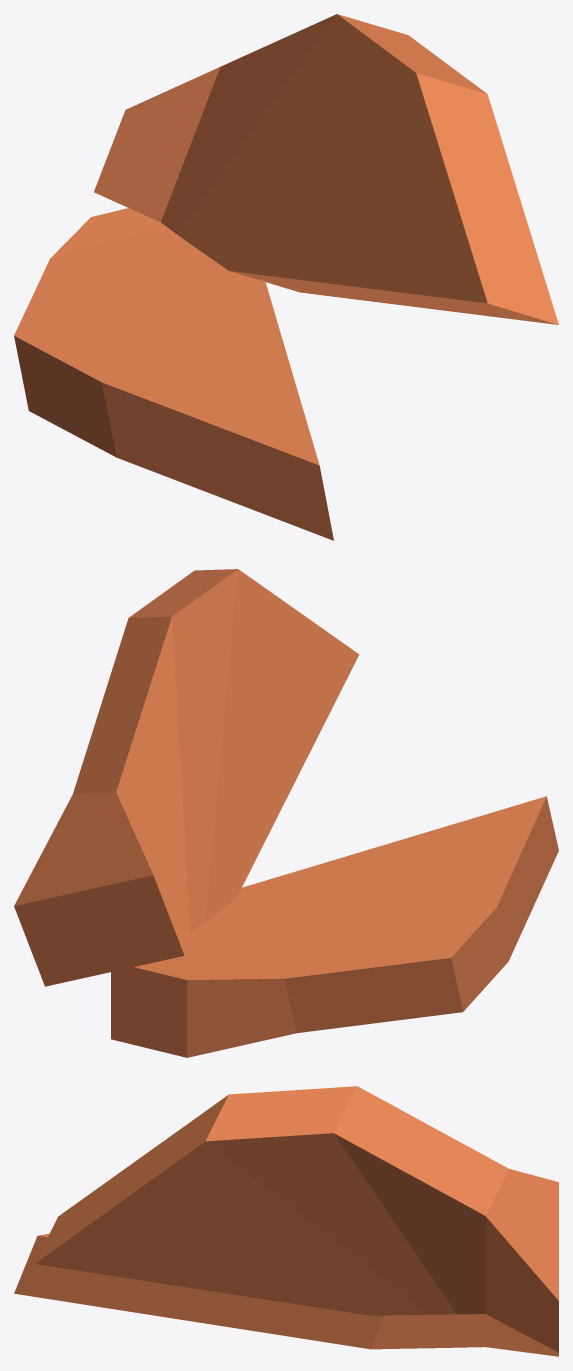
The model's file is koifishTail.glb.
The picture shows the model from 3 angles, top to bottom: view 1: azimuth 30°, elevation 25°; view 2: azimuth 150°, elevation 25°; view 3: azimuth 270°, elevation 25°; orthographic projection. The views are drawn at different scales.
Parts seen in each view (by area): view 1: Tail; view 2: Tail; view 3: Tail.
Boxes of the visible parts, left/top/right/bottom form: Tail: left=14, top=14, right=558, bottom=540; Tail: left=14, top=569, right=558, bottom=1057; Tail: left=14, top=1086, right=558, bottom=1356.
Size of the model in its own units: 5.12 by 4.45 by 7.51.
